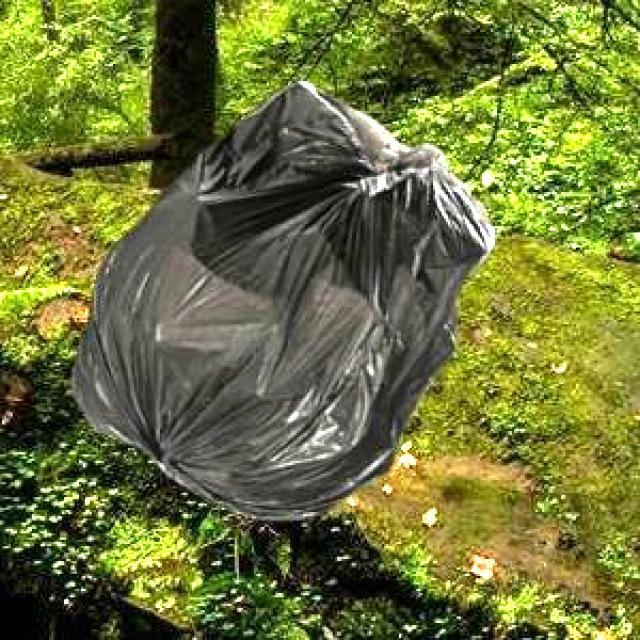Garbage_Bag: (69, 78, 492, 518)
